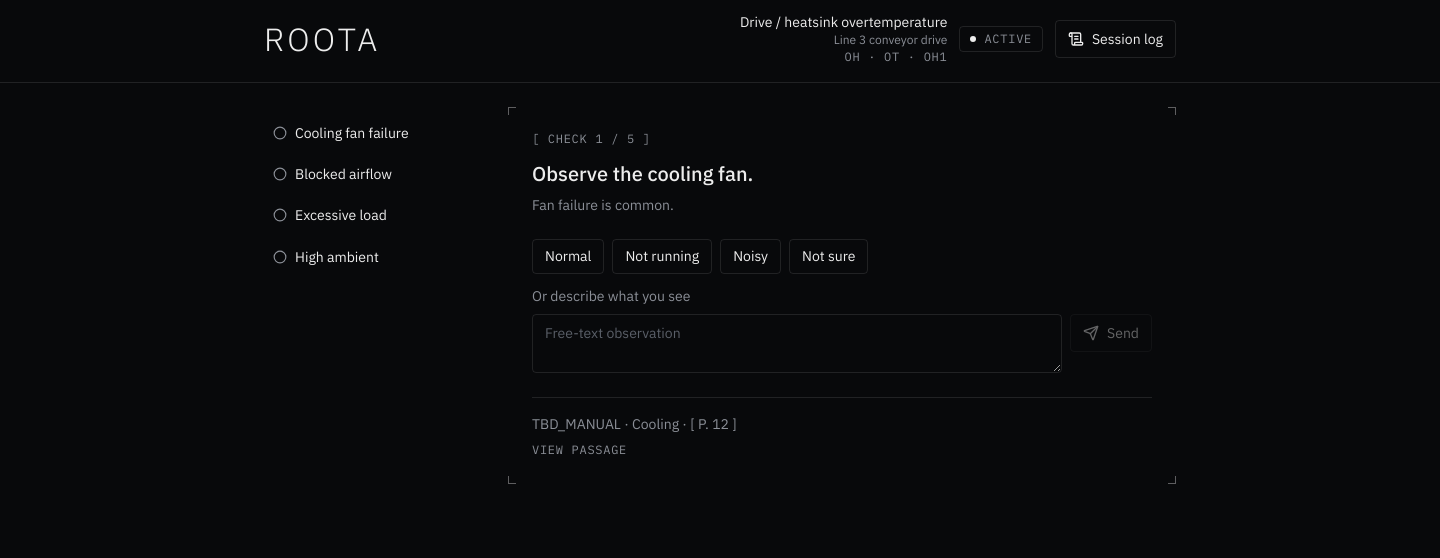
SessionScreen › marks Not sure and shows the move-on message
Click the button "Not sure".
click(829, 257)  # box [789,240,868,274]
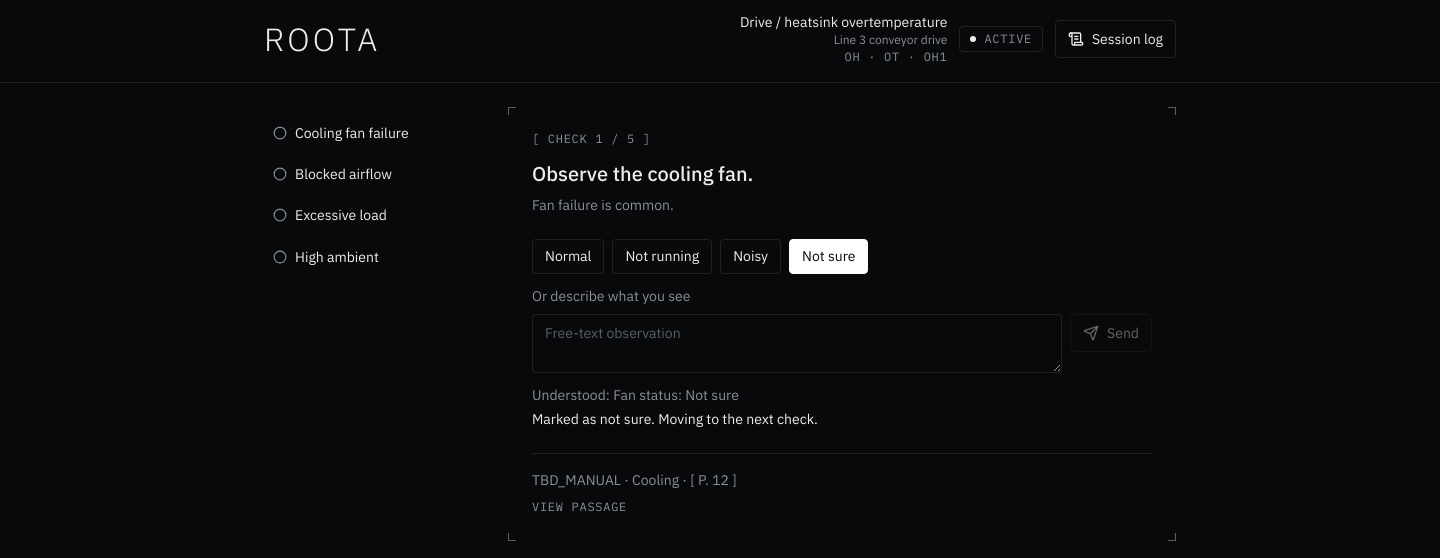
expect the text "Marked as not sure. Moving to the next check." is shown: met, box [532,410,818,428]
expect the text "Understood: Fan status: Not sure" is shown: met, box [532,386,739,404]
